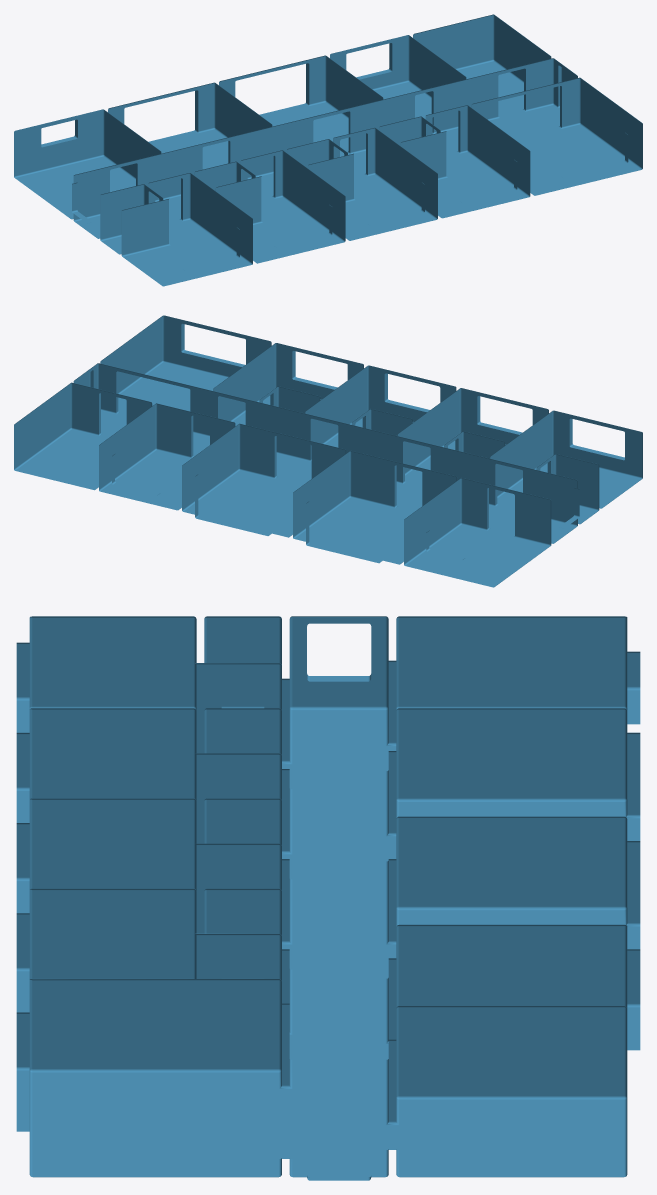
The model's file is shell.glb.
The picture shows the model from 3 angles, top to bottom: view 1: azimuth 30°, elevation 25°; view 2: azimuth 150°, elevation 25°; view 3: azimuth 270°, elevation 25°; orthographic projection. The views are drawn at different scales.
Parts seen in each view (by area): view 1: shell; view 2: shell; view 3: shell.
Part boxes in pixels (x1,y1,x2,y2): shell: (14, 14, 642, 286); shell: (14, 315, 642, 587); shell: (16, 616, 640, 1180).
Size of the model in its own units: 26.5 by 2.43 by 14.6.
